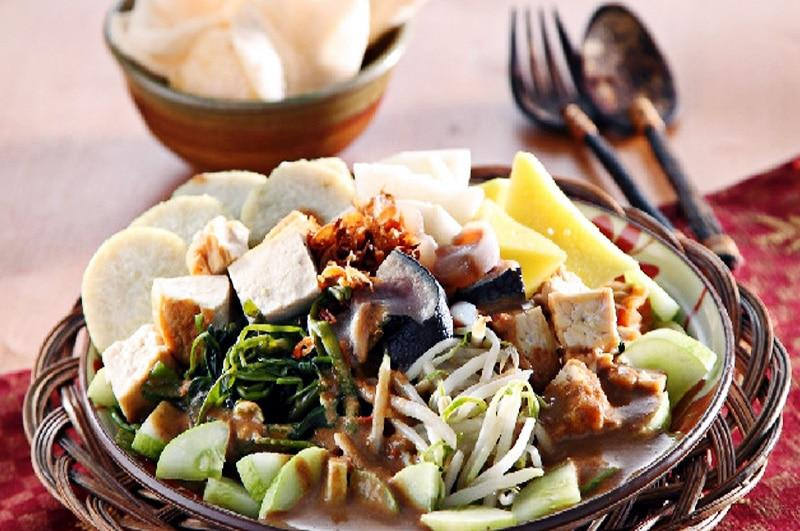rujak_cingur: (80, 150, 718, 531)
